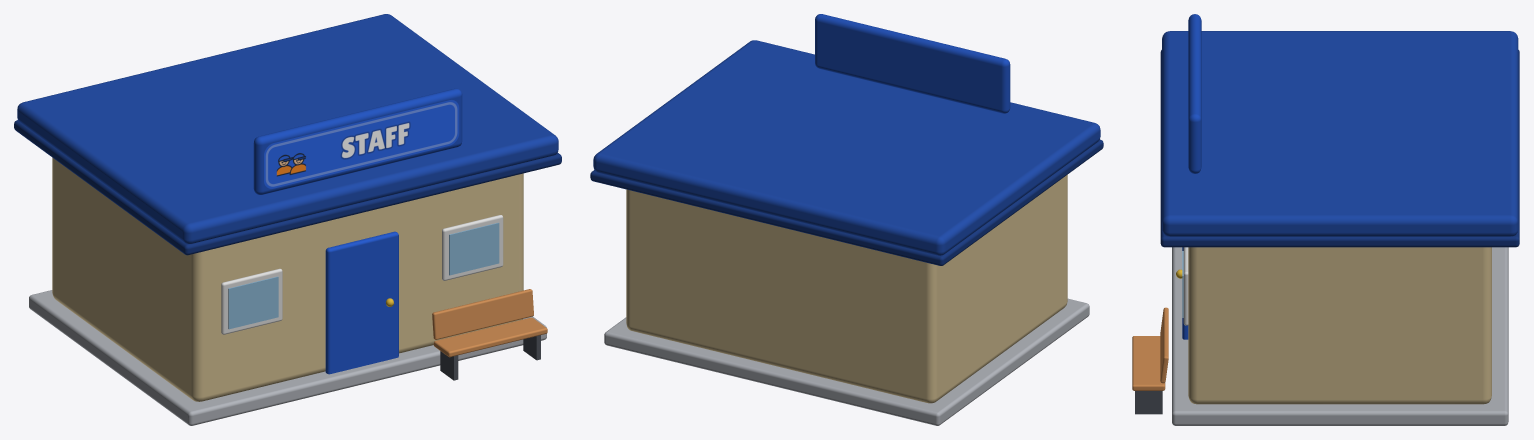
Rendered from staff_room.glb.
3 renders of one model, left to right at view 1: azimuth 30°, elevation 25°; view 2: azimuth 150°, elevation 25°; view 3: azimuth 270°, elevation 25°, orthographic. The views are drawn at different scales.
Visible parts, largest first — view 1: StaffRoom; view 2: StaffRoom; view 3: StaffRoom.
Boxes of the visible parts, left/top/right/bottom form: StaffRoom: left=14, top=14, right=561, bottom=425; StaffRoom: left=590, top=14, right=1103, bottom=425; StaffRoom: left=1132, top=14, right=1519, bottom=425.
Size of the model in its own units: 6.84 by 4.55 by 5.87.
Materials: 4 (1 with a texture image).
